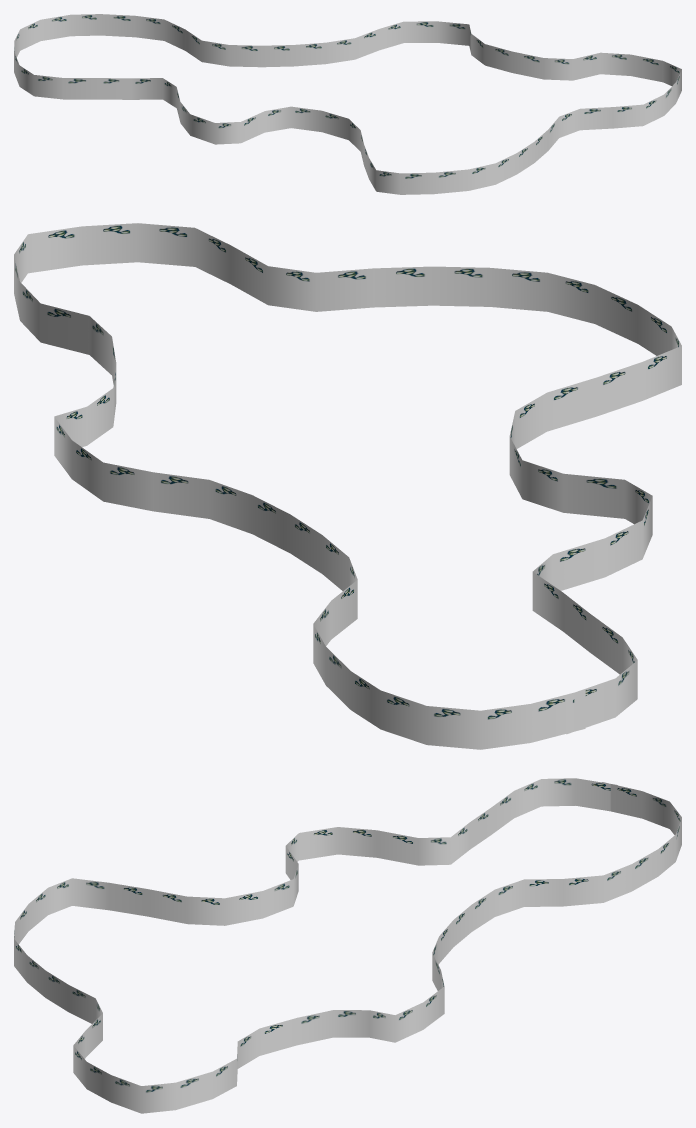
The model's file is school-of-fish-ribbon-strip.FBX.
3 views of the same model, one above another, from view 1: azimuth 30°, elevation 25°; view 2: azimuth 150°, elevation 25°; view 3: azimuth 270°, elevation 25° (orthographic). The views are drawn at different scales.
Visible parts, largest first — view 1: school; view 2: school; view 3: school.
Boxes of the visible parts, x1,y1,x2,y2 form: school: (14,14,681,194); school: (14,223,681,749); school: (14,778,681,1113).
Size of the model in its own units: 23.94 by 21.95 by 1.
